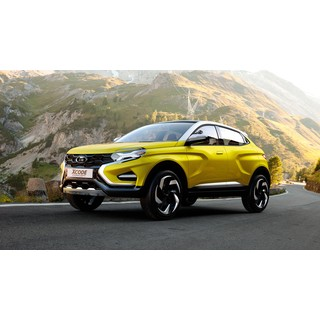car: (60, 122, 272, 221)
